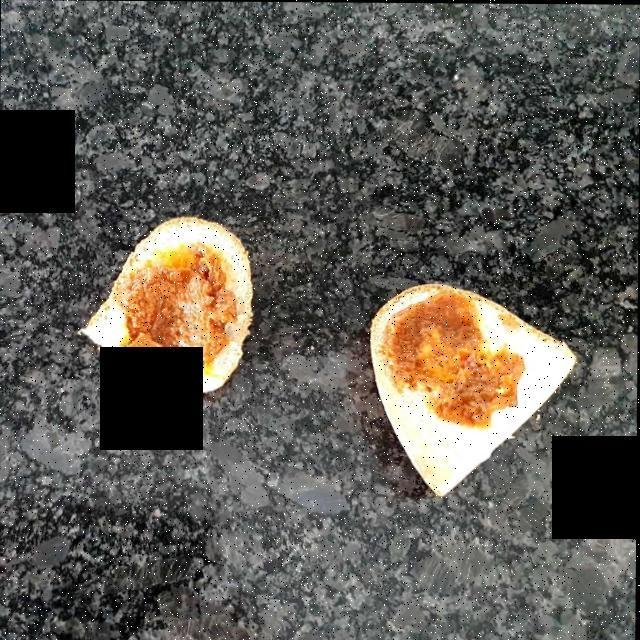bread: (85, 186, 568, 477)
